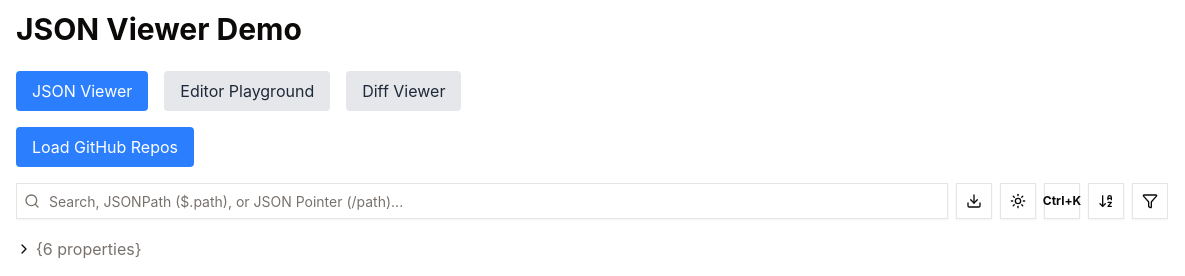
Demo App › Data source toggle › toggles button text when data source changes
Click the button "Load GitHub Repos": (105, 147) [16, 127, 194, 167]
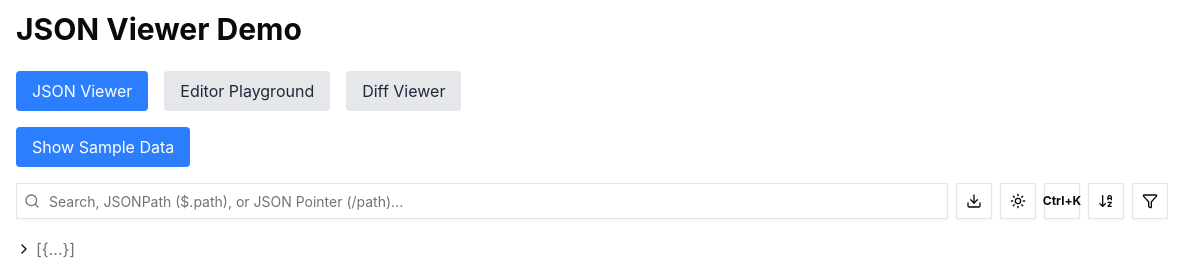
Now the button "Show Sample Data" is shown
Click the button "Show Sample Data": (103, 147) [16, 127, 190, 167]
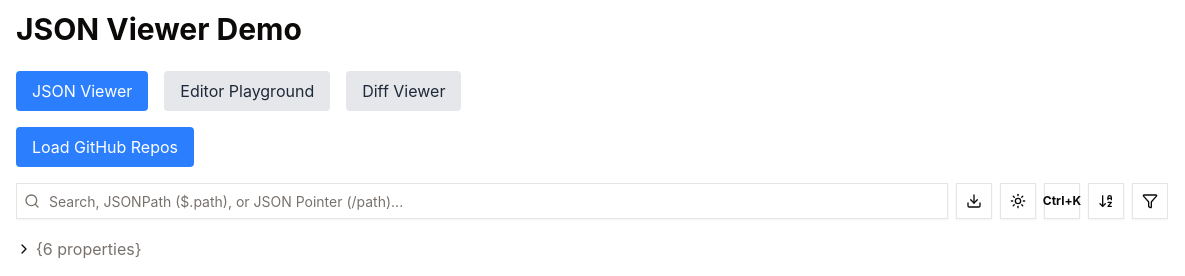
Now the button "Load GitHub Repos" is shown, box [16, 127, 194, 167]
